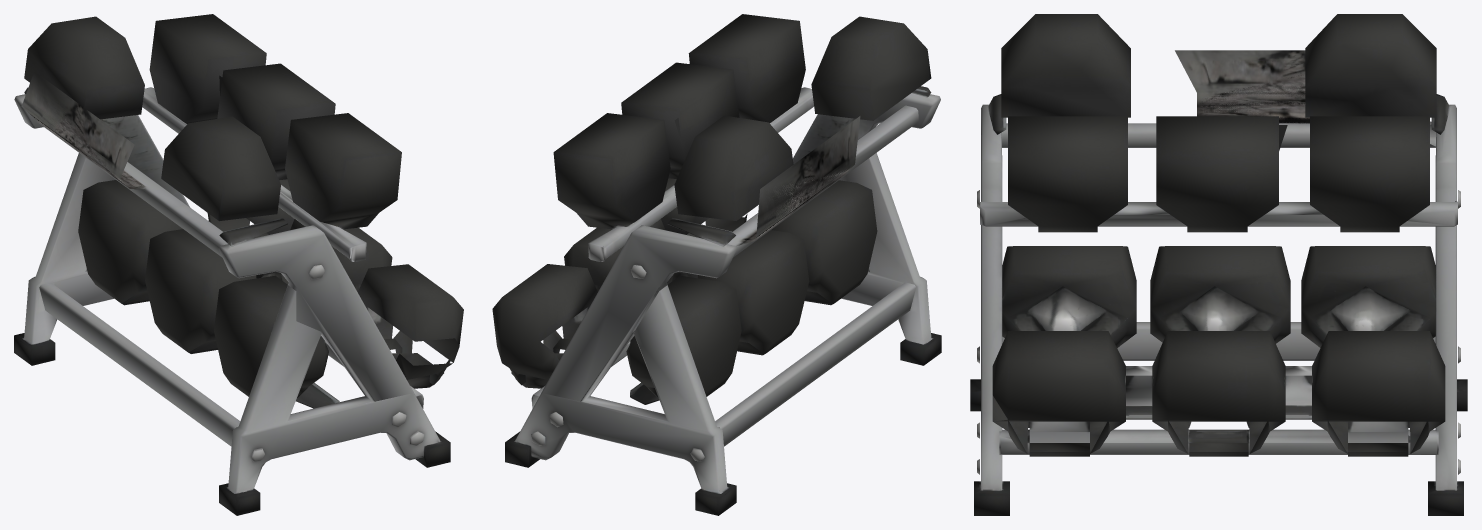
The model's file is gym_dumbbell_rack.glb.
3 views of the same model, side by side, from view 1: azimuth 30°, elevation 25°; view 2: azimuth 150°, elevation 25°; view 3: azimuth 270°, elevation 25° (orthographic). The views are drawn at different scales.
Parts seen in each view (by area): view 1: tripo_node_70135509-041e-4a59-8174-4aaeaed2f7c9; view 2: tripo_node_70135509-041e-4a59-8174-4aaeaed2f7c9; view 3: tripo_node_70135509-041e-4a59-8174-4aaeaed2f7c9.
Part boxes in pixels (x1,y1,x2,y2): tripo_node_70135509-041e-4a59-8174-4aaeaed2f7c9: (14,14,463,515); tripo_node_70135509-041e-4a59-8174-4aaeaed2f7c9: (492,14,941,515); tripo_node_70135509-041e-4a59-8174-4aaeaed2f7c9: (970,14,1467,515).
Size of the model in its own units: 0.6712 by 0.863 by 1.
1 material, 1 textured.
